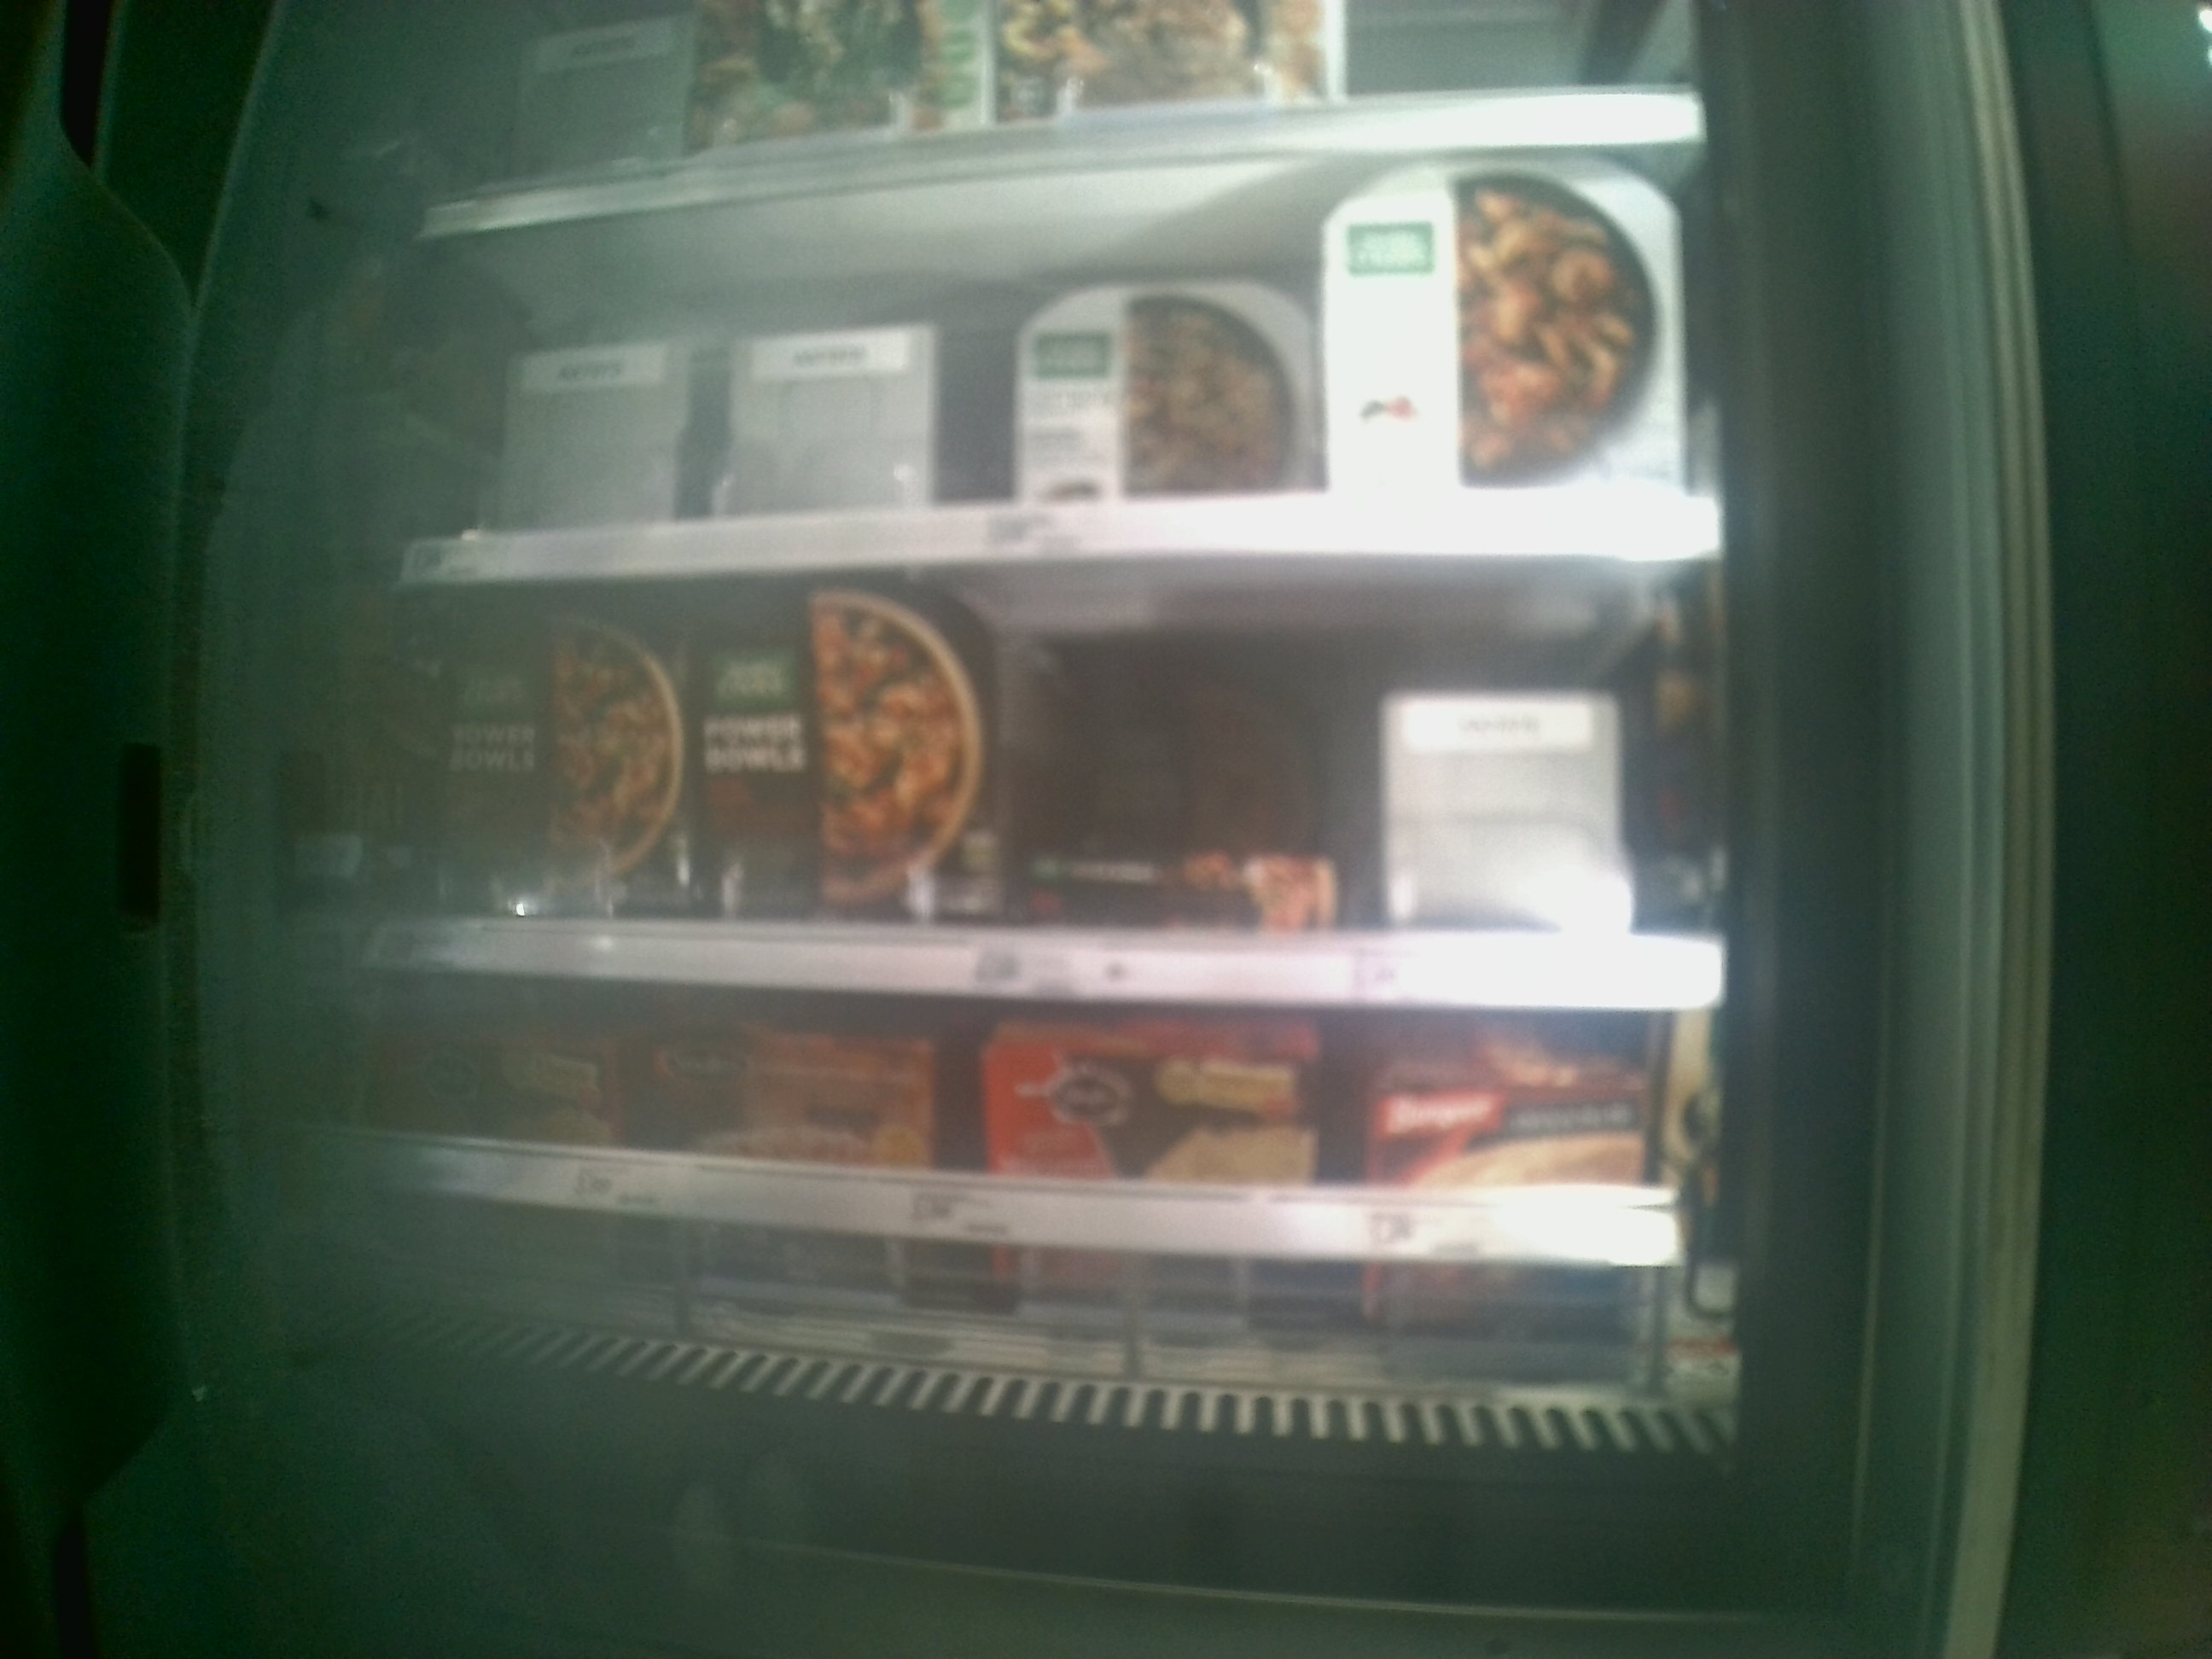shelf: (395, 561, 1726, 1014), (416, 129, 1719, 575), (361, 969, 1707, 1378)
